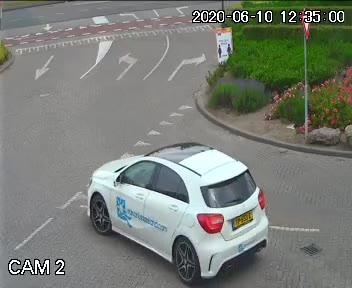car: (76, 132, 279, 288)
